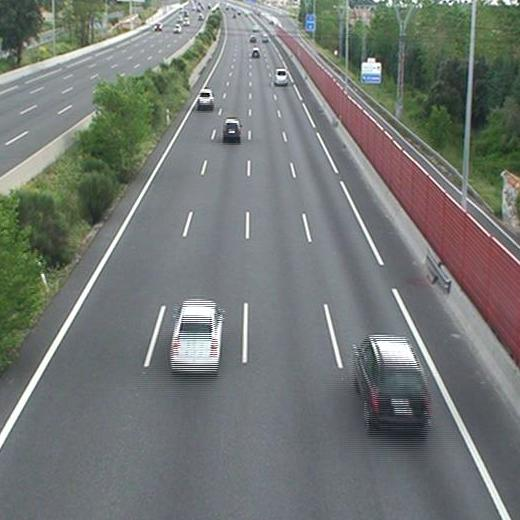car: (355, 337, 430, 421), (169, 300, 221, 371), (197, 90, 214, 107), (224, 120, 241, 137), (274, 69, 289, 85), (251, 48, 259, 57), (249, 36, 256, 42)
